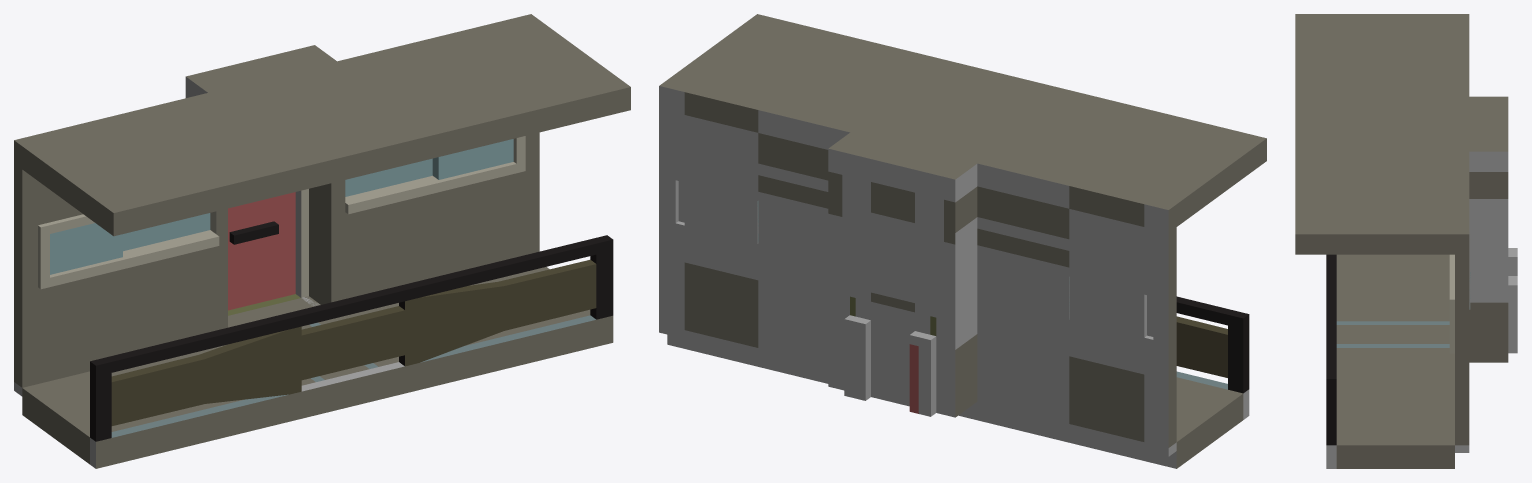
File: HallwayTRAP.fbx
3 renders of one model, left to right at view 1: azimuth 30°, elevation 25°; view 2: azimuth 150°, elevation 25°; view 3: azimuth 270°, elevation 25°, orthographic. The views are drawn at different scales.
Parts seen in each view (by area): view 1: pCube1; view 2: pCube1; view 3: pCube1.
Part boxes in pixels (left/top/right/bottom): pCube1: left=14, top=14, right=630, bottom=468; pCube1: left=659, top=14, right=1266, bottom=468; pCube1: left=1295, top=14, right=1517, bottom=468.
Size of the model in its own units: 8.87 by 4.4 by 3.79.
